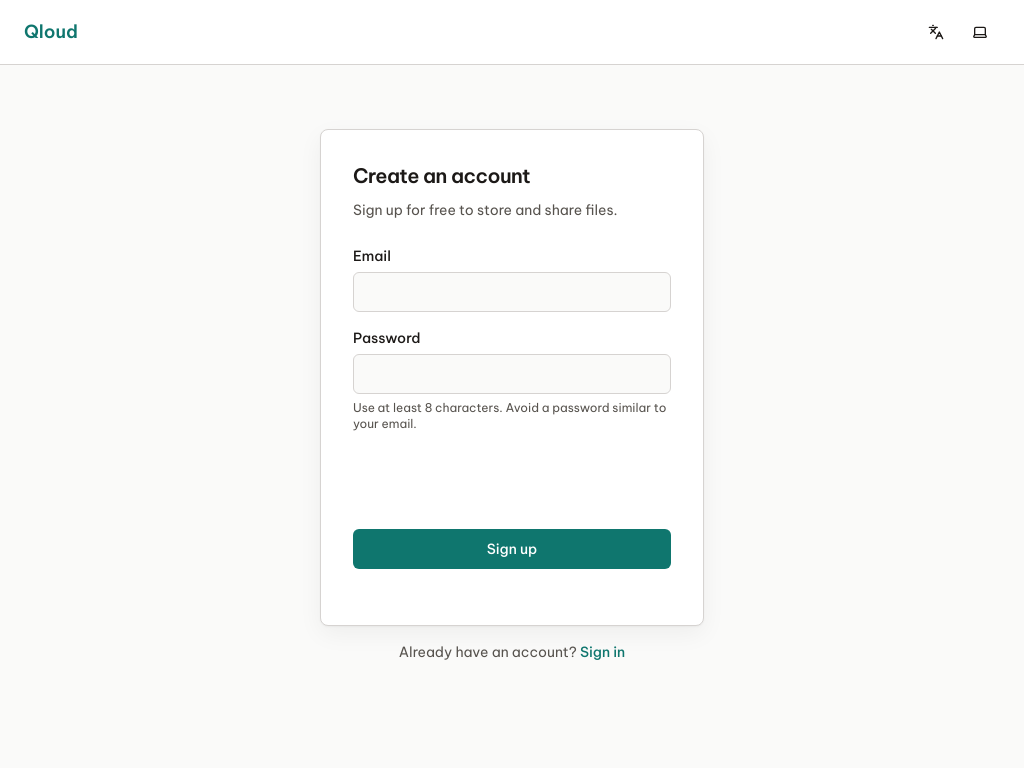
it: Turnstile on signup › asks for a fresh token after the server rejects one
Type "a@example.com" into the field labelled "Email" at point(512, 292), box [353,272,671,312]
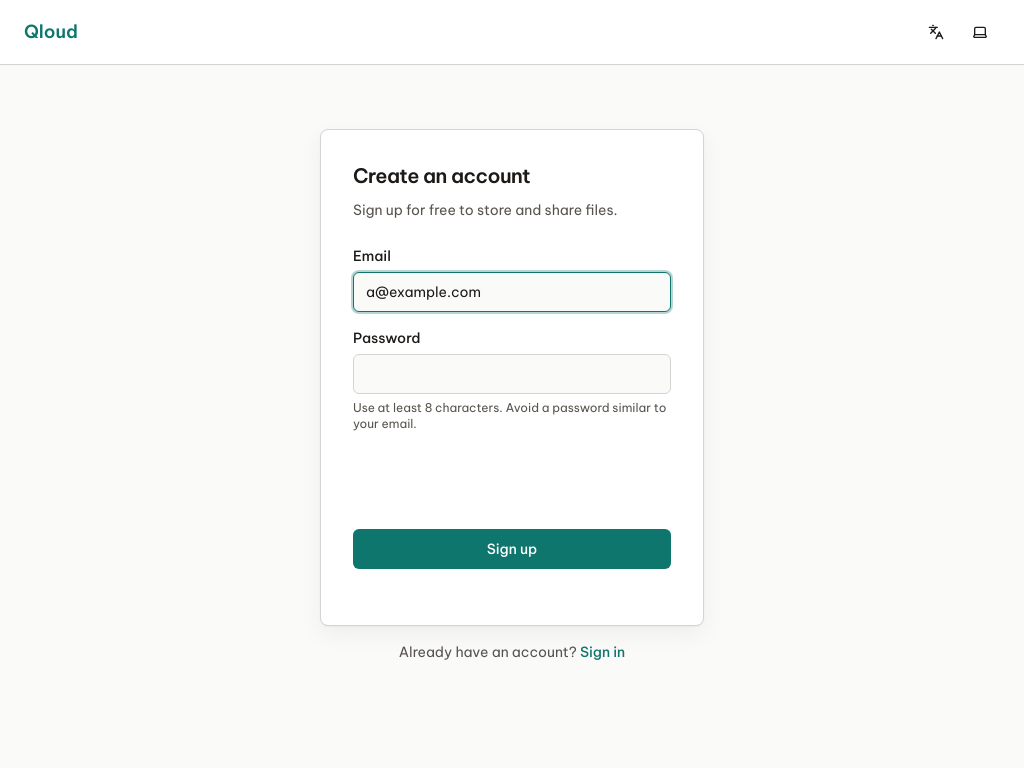
Type "qloud-test-password" into the password field labelled "Password" at point(512, 374), box [353,354,671,394]
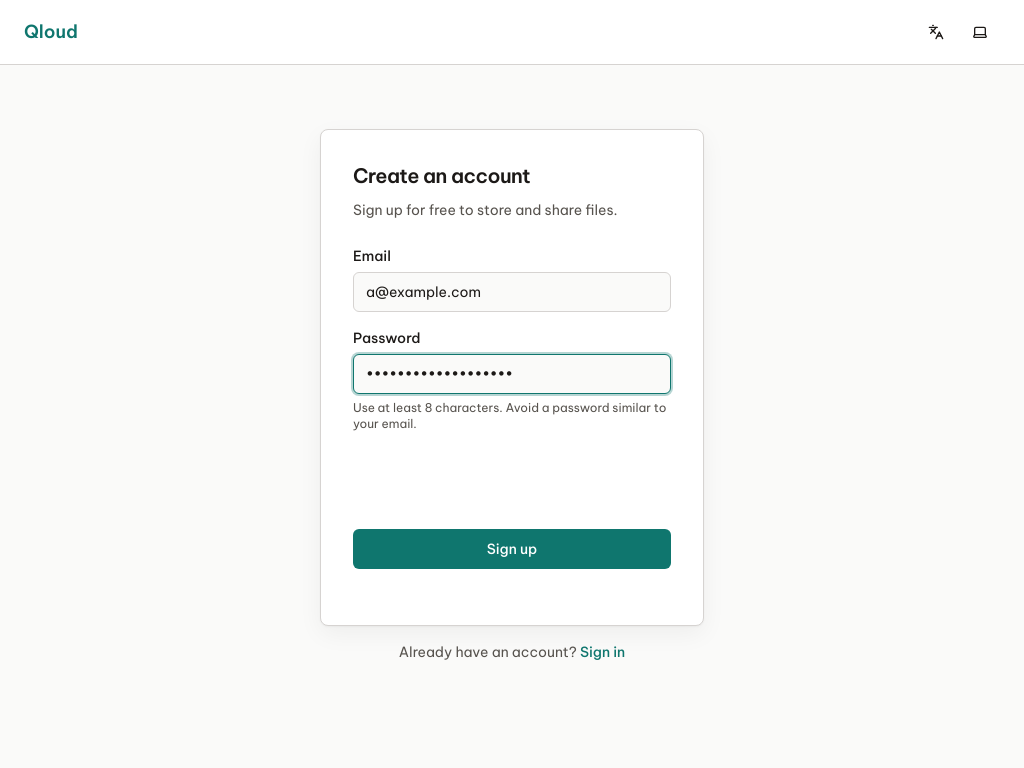
Click the button "Sign up" at point(512, 549), box [353,529,671,569]
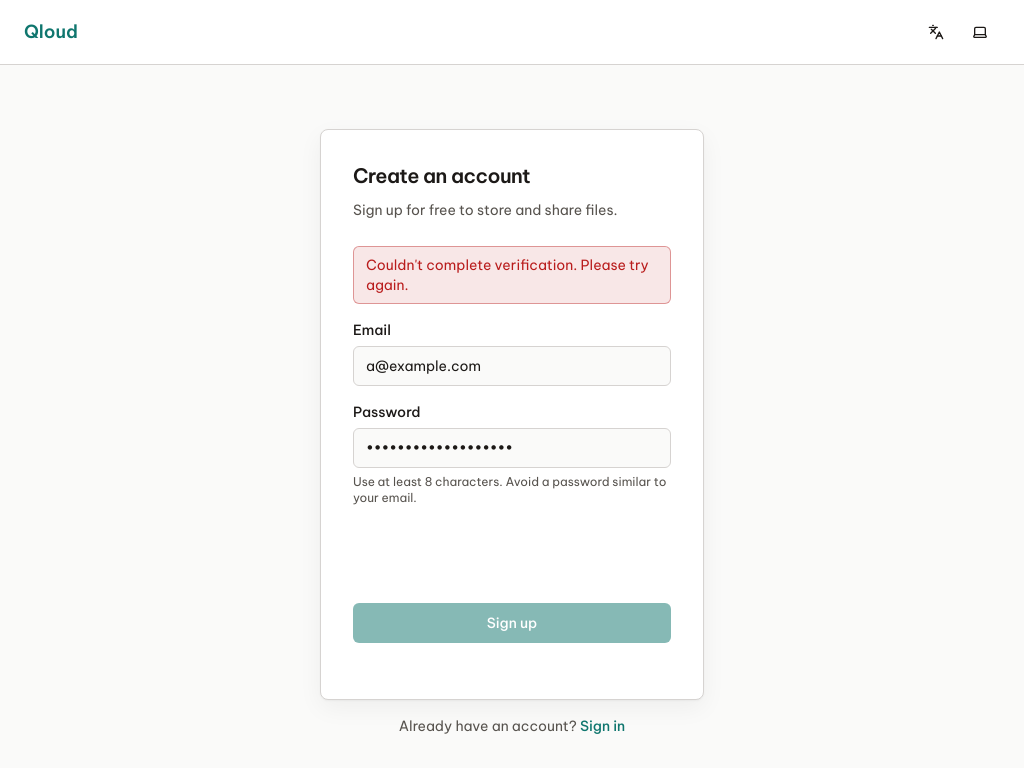
Expected: the message reads "Couldn't complete verification. Please try again.", [366,256,649,294]
Expected: the button "Sign up" is disabled, [353,603,671,643]
